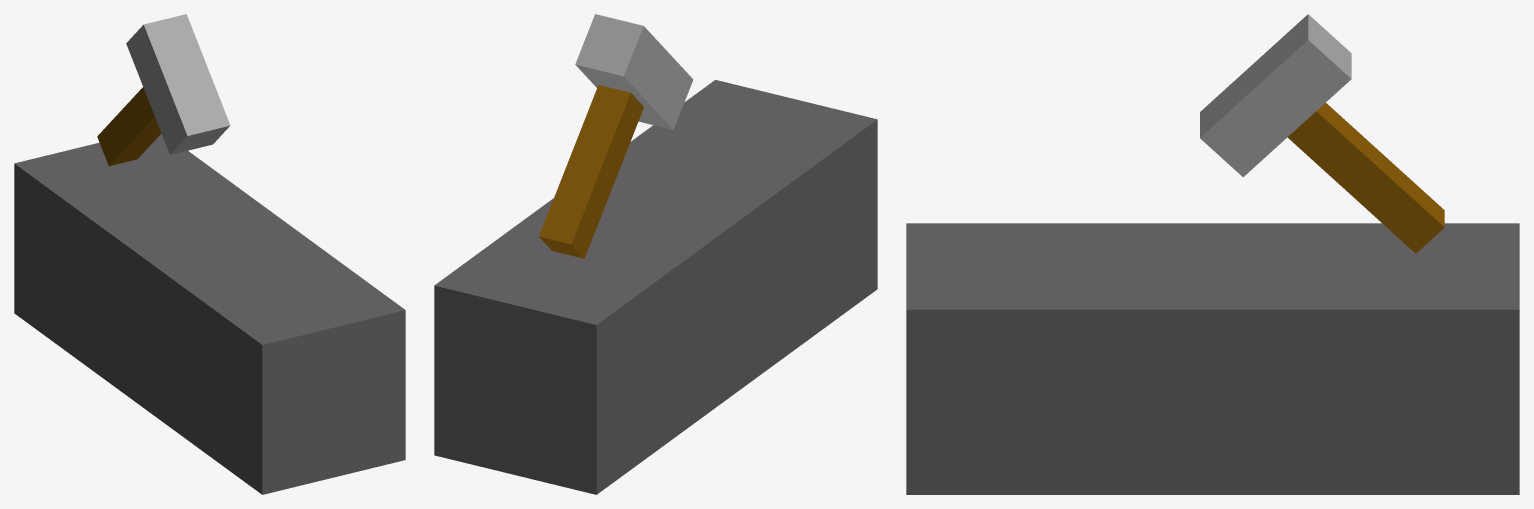
File: masonry.glb
3 views of the same model, side by side, from view 1: azimuth 30°, elevation 25°; view 2: azimuth 150°, elevation 25°; view 3: azimuth 270°, elevation 25° (orthographic). The views are drawn at different scales.
Visible parts, largest first — view 1: Cube, Cube.002, Cube.001; view 2: Cube, Cube.001, Cube.002; view 3: Cube, Cube.002, Cube.001.
Part boxes in pixels (<box>): Cube: <box>14,133,405,494</box>; Cube.002: <box>126,14,230,154</box>; Cube.001: <box>97,87,161,166</box>; Cube: <box>434,80,877,494</box>; Cube.001: <box>539,85,643,258</box>; Cube.002: <box>575,14,693,129</box>; Cube: <box>906,223,1519,494</box>; Cube.002: <box>1200,14,1351,177</box>; Cube.001: <box>1287,103,1444,253</box>.
Size of the model in its own units: 2 by 4.55 by 6.
